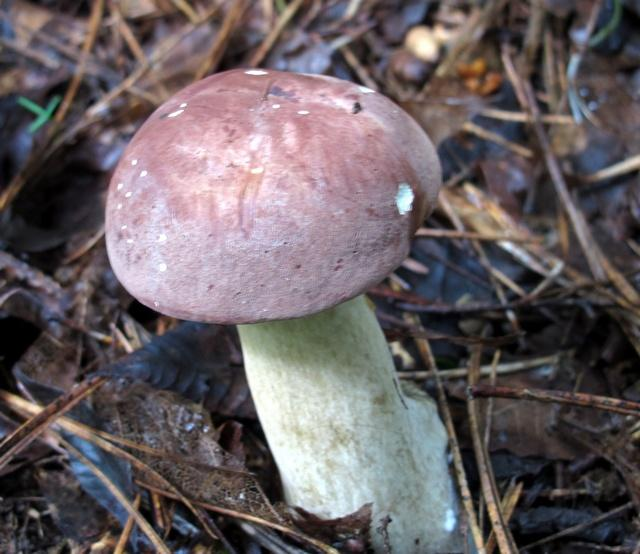Non-edible Mushroom: (101, 65, 468, 552)
